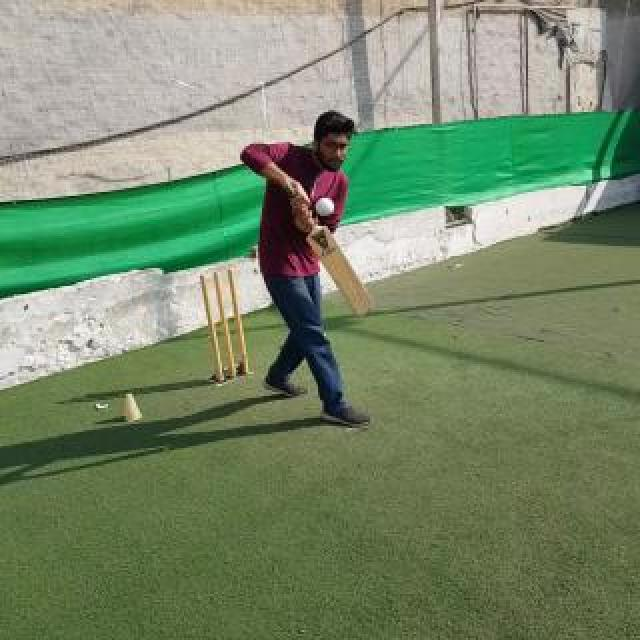ball: (316, 196, 334, 216)
bat: (282, 176, 376, 318)
